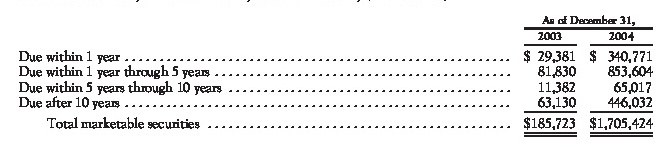table: (0, 0, 671, 147)
